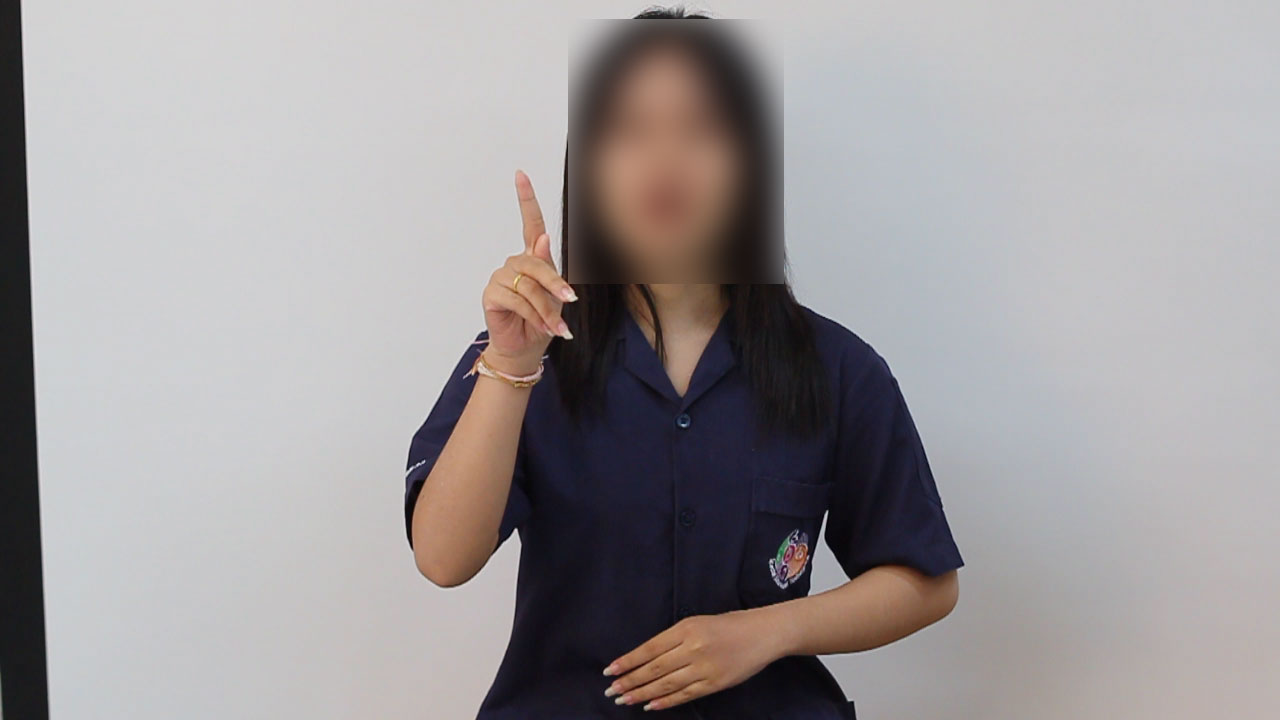ko: (422, 158, 594, 425)
